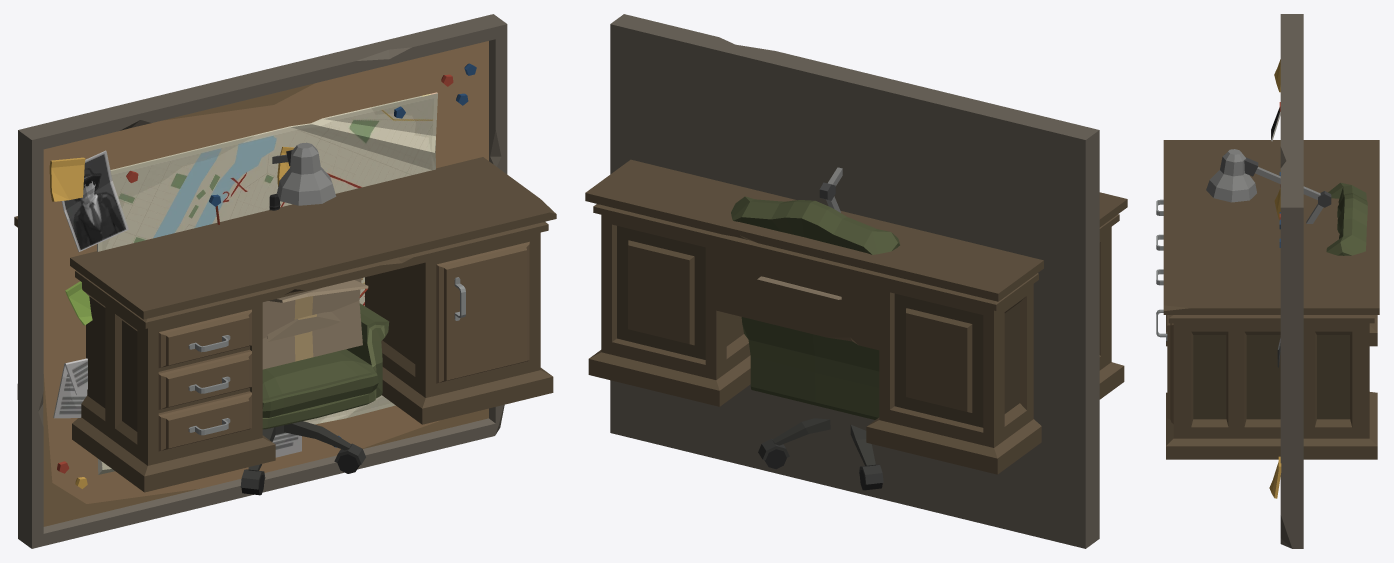
File: props.glb
The picture shows the model from 3 angles, left to right: view 1: azimuth 30°, elevation 25°; view 2: azimuth 150°, elevation 25°; view 3: azimuth 270°, elevation 25°; orthographic projection. The views are drawn at different scales.
Parts seen in each view (by area): view 1: Pinboard_01, Desk_01, Desk_01_Door, Armchair_01, Cardboard_Box_03, Desk_Lamp_01, Armchair_01_Rack, Cardboard_Box_01, Cardboard_Box_02; view 2: Pinboard_01, Desk_01, Armchair_01, Armchair_01_Rack; view 3: Desk_01, Pinboard_01, Desk_Lamp_01, Armchair_01, Desk_01_Door.
Boxes of the visible parts, x1,y1,x2,y2 form: Pinboard_01: (18,14,507,548); Desk_01: (14,157,556,492); Desk_01_Door: (436,241,529,383); Armchair_01: (262,303,389,429); Cardboard_Box_03: (262,278,362,369); Desk_Lamp_01: (272,142,336,205); Armchair_01_Rack: (240,421,365,495); Cardboard_Box_01: (267,311,340,342); Cardboard_Box_02: (269,280,368,302); Pinboard_01: (610,14,1099,548); Desk_01: (585,159,1127,474); Armchair_01: (731,196,899,419); Armchair_01_Rack: (758,418,883,490); Desk_01: (1156,140,1379,459); Pinboard_01: (1269,14,1303,548); Desk_Lamp_01: (1206,149,1331,223); Armchair_01: (1326,182,1367,255); Desk_01_Door: (1156,309,1173,423).
Bounding box in the file's own units: 2.11 × 1.68 × 0.996.
Materials: 1 (1 with a texture image).
